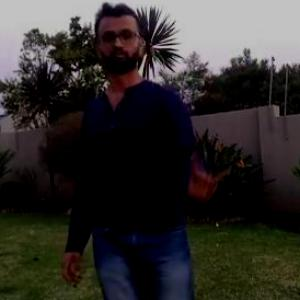takeoff-hand: (180, 146, 228, 204)
